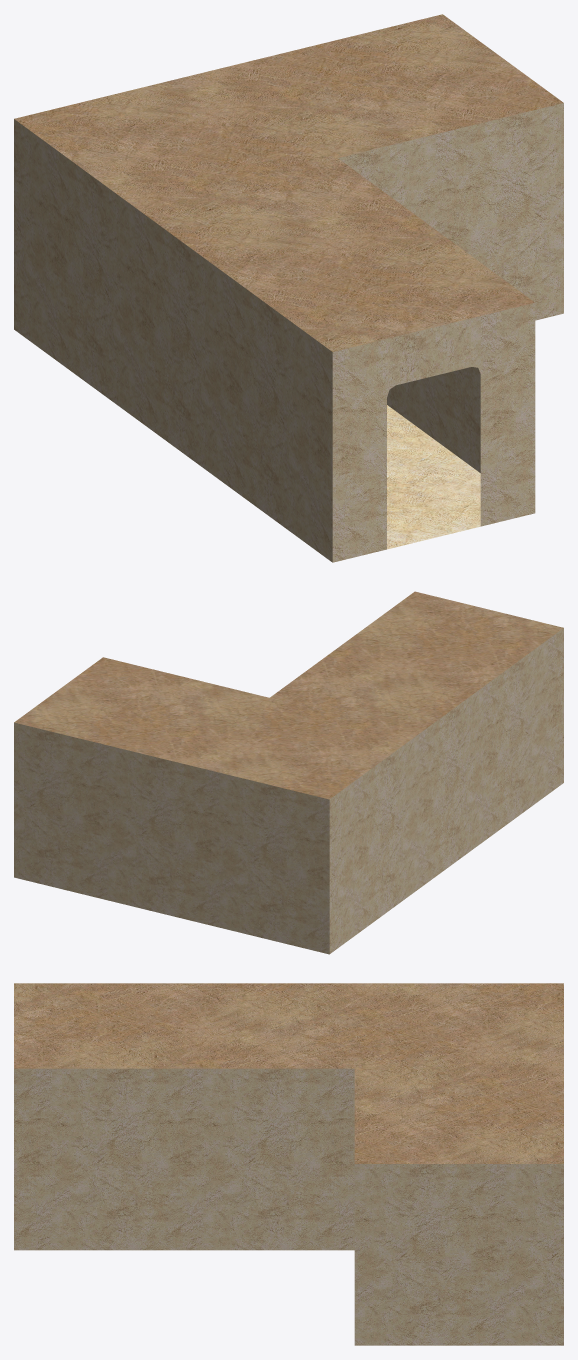
The model's file is thm_tato_imprv_building_s10_r1_foyer_mesh_l0.fbx.
The picture shows the model from 3 angles, top to bottom: view 1: azimuth 30°, elevation 25°; view 2: azimuth 150°, elevation 25°; view 3: azimuth 270°, elevation 25°; orthographic projection. The views are drawn at different scales.
Parts seen in each view (by area): view 1: mesh_node; view 2: mesh_node; view 3: mesh_node.
Boxes of the visible parts, x1,y1,x2,y2 form: mesh_node: (14, 14, 563, 562); mesh_node: (14, 591, 563, 954); mesh_node: (14, 983, 563, 1345).
Size of the model in its own units: 8.46 by 3.97 by 10.9.
